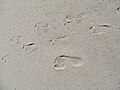human_footprint: (10, 35, 36, 52), (54, 55, 82, 69), (64, 11, 85, 24), (89, 24, 111, 33), (50, 34, 67, 44), (54, 55, 66, 69), (35, 22, 49, 34), (22, 42, 36, 52), (70, 56, 82, 66), (35, 22, 48, 29), (10, 35, 21, 43), (1, 54, 10, 62), (116, 7, 120, 14)
